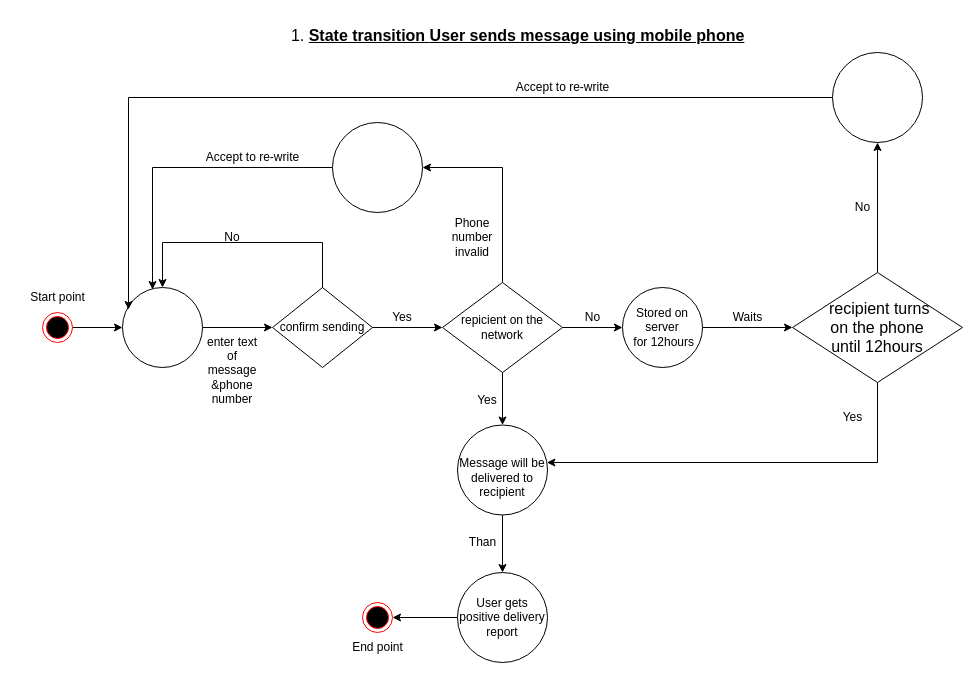
The diagram is 980 pixels wide and 680 high, and some of its shapes have lost their labels. The shapes that lost their labels are listed below. From the top down, each one's box as (x1, y1, x2, y2) in pixels, then its label:
(832, 52, 922, 142): Get negative delivery report
(332, 122, 422, 212): sorry, please enter valid phone number
(122, 286, 202, 368): wait a new tetxt of message
